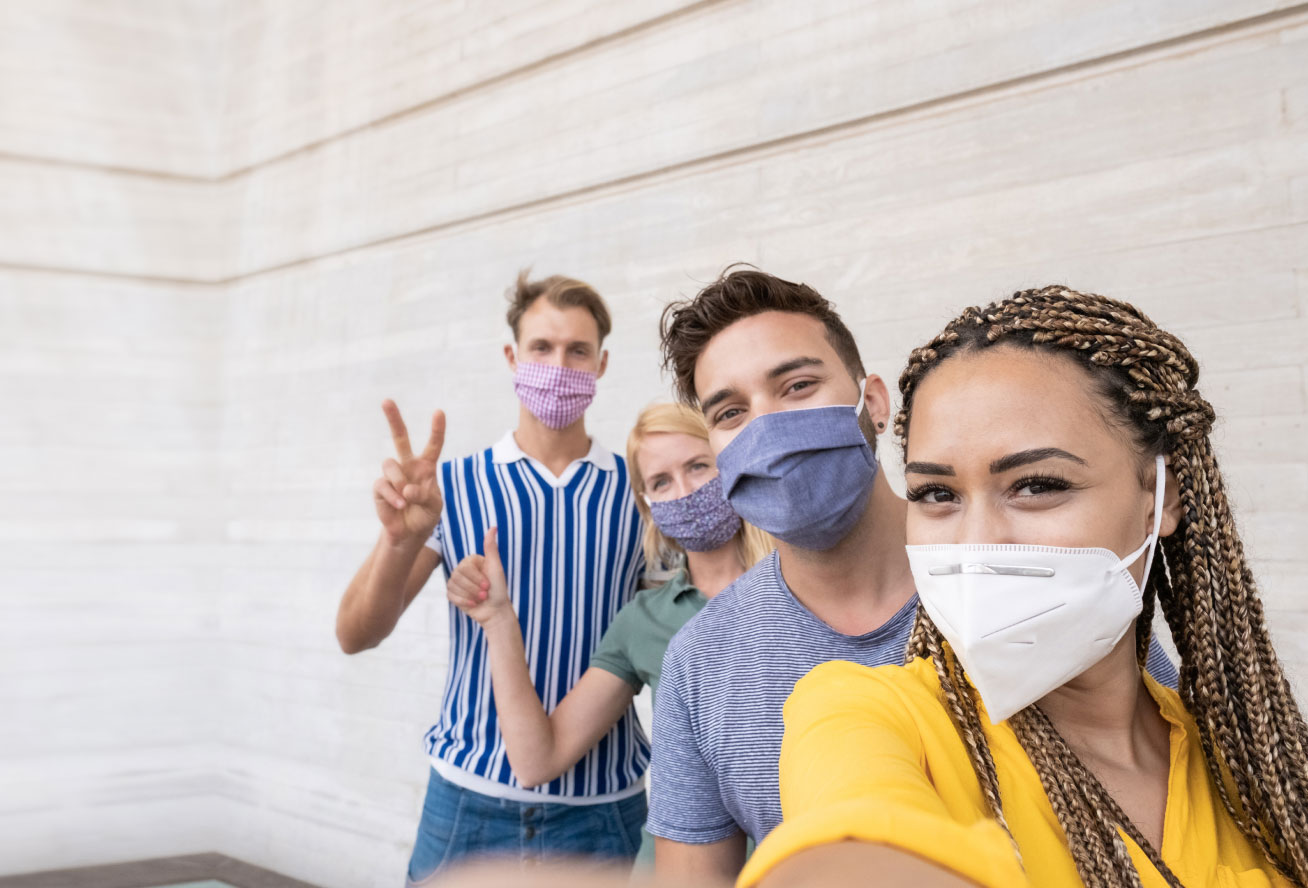with_mask: (907, 371, 1112, 670), (706, 316, 859, 521), (635, 434, 728, 546), (517, 304, 600, 421)
